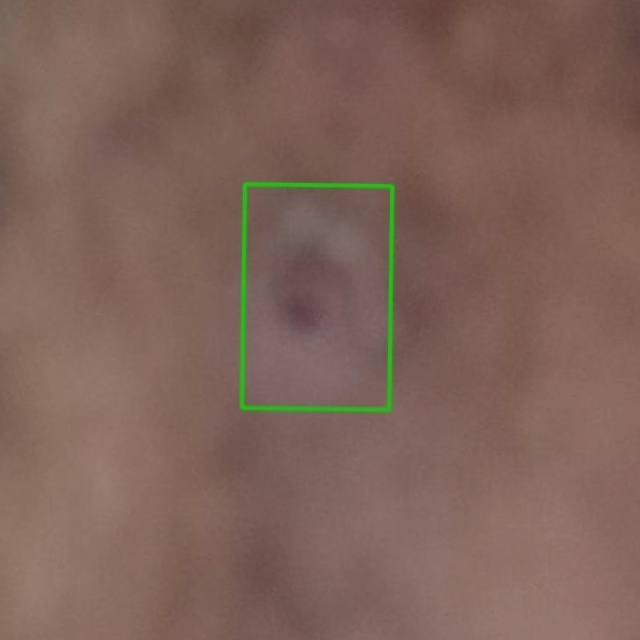Eczema: (241, 184, 392, 409)
